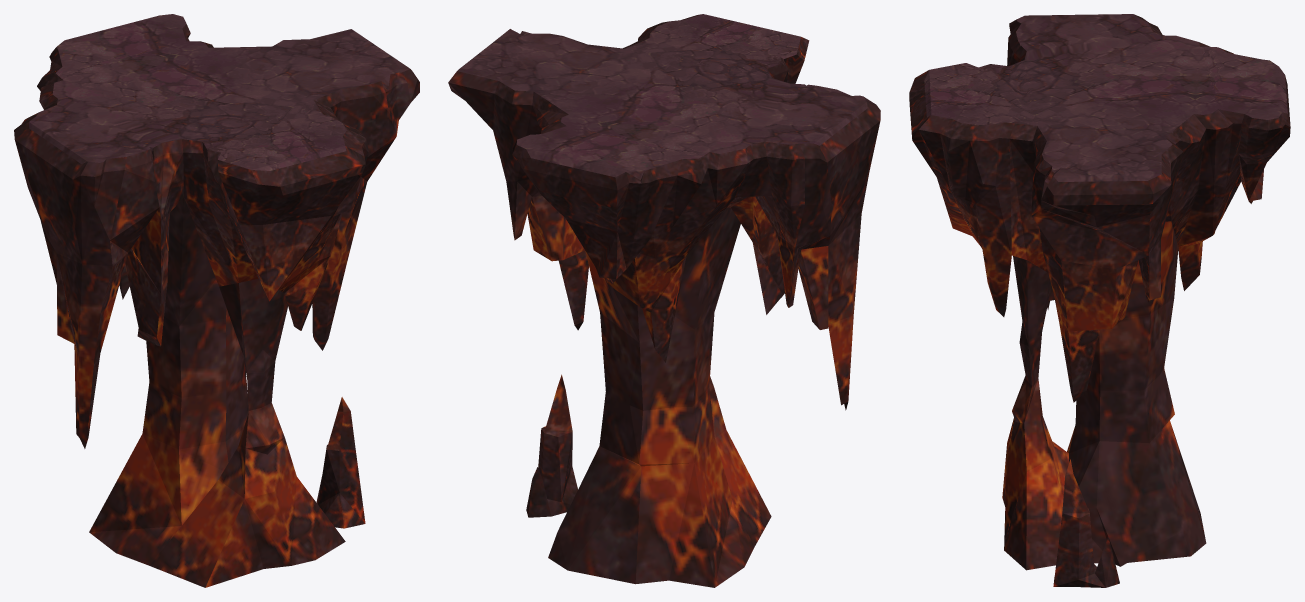
Rendered from sn_jingyanFB_shanshi01_06.FBX.
3 views of the same model, side by side, from view 1: azimuth 30°, elevation 25°; view 2: azimuth 150°, elevation 25°; view 3: azimuth 270°, elevation 25° (orthographic). The views are drawn at different scales.
Parts seen in each view (by area): view 1: sn_jingyanFB_shanshi01_06; view 2: sn_jingyanFB_shanshi01_06; view 3: sn_jingyanFB_shanshi01_06.
Part boxes in pixels (x1,y1,x2,y2): sn_jingyanFB_shanshi01_06: [14, 14, 419, 587]; sn_jingyanFB_shanshi01_06: [448, 14, 880, 587]; sn_jingyanFB_shanshi01_06: [909, 14, 1290, 587].
Size of the model in its own units: 2763 by 2576 by 3225.
